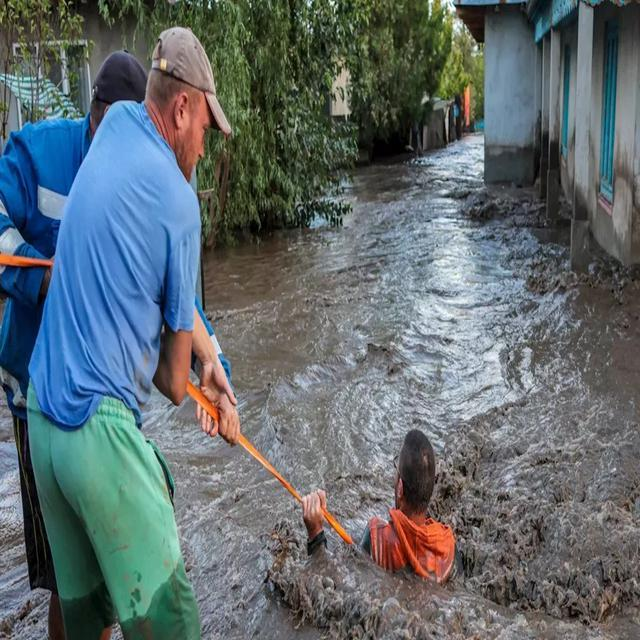Person-RiskLevel2: (5, 23, 242, 640)
Person-RiskLevel3: (299, 426, 469, 600)
